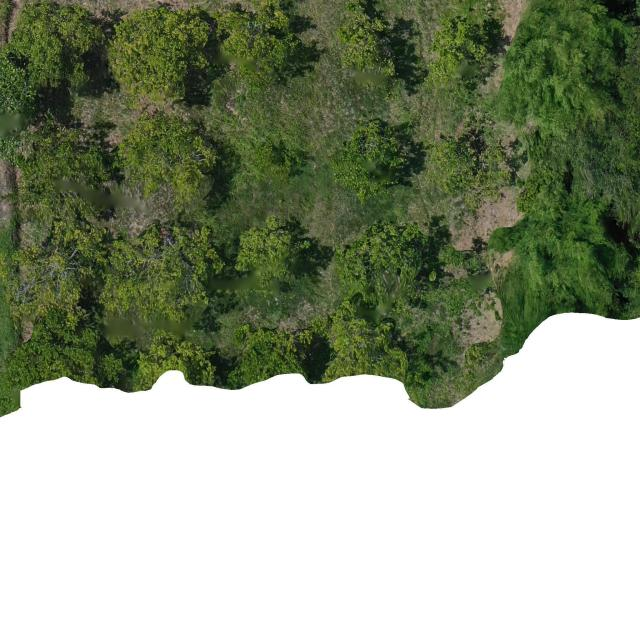Tree: (98, 220, 225, 325), (3, 298, 132, 389), (8, 219, 116, 324), (105, 6, 213, 102), (113, 110, 222, 204), (311, 298, 410, 386), (338, 217, 431, 309), (6, 2, 100, 92), (226, 314, 325, 392), (214, 0, 306, 78), (432, 125, 514, 208), (335, 116, 416, 190), (235, 213, 312, 290), (131, 327, 221, 392), (425, 18, 490, 90), (336, 12, 398, 78)
